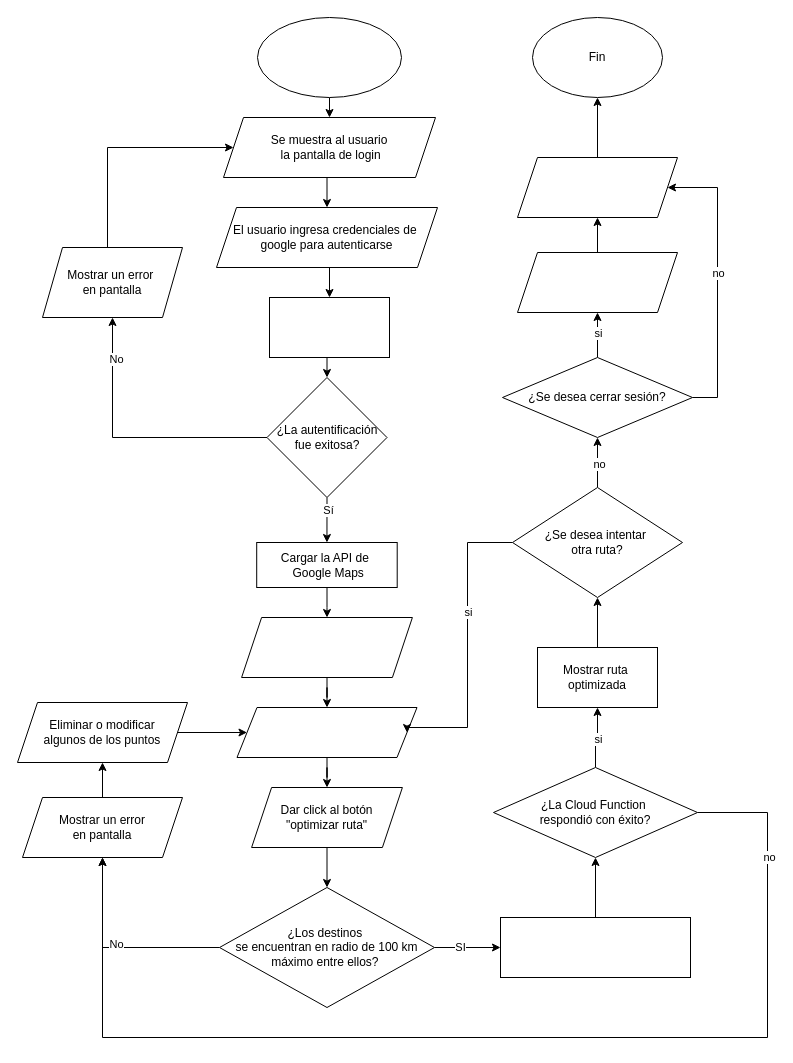
This 793x1063 diagram has some shape labels left out. Each missing label, with the box of its shape:
Cerrar la ventana: (516, 156, 678, 218)
Cloud Function Algoritmo genético y distance Matrix: (500, 916, 690, 978)
Dar click al botón "salir" para cerrar sesión: (516, 252, 678, 312)
Ingresar los destinos con una busqueda o click: (236, 706, 417, 758)
Inicio: (256, 16, 402, 98)
Mostrar la intefaz principal: (241, 616, 412, 678)
Realizar proceso de autentificación: (268, 296, 390, 358)
